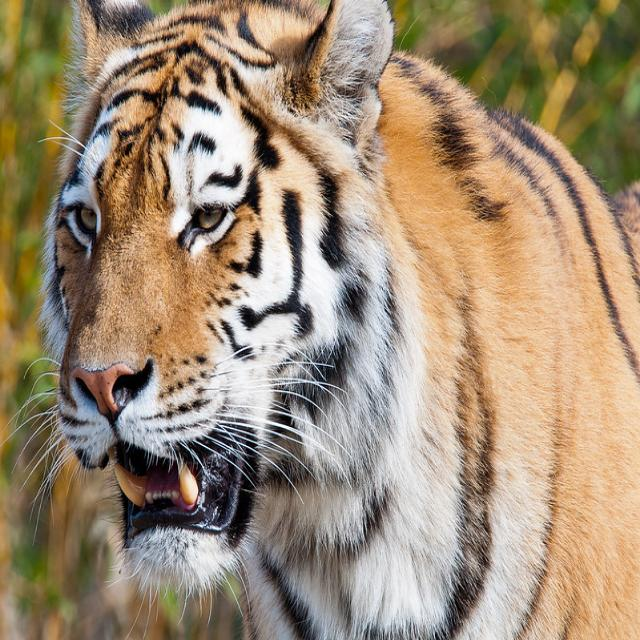Tiger: (29, 0, 634, 635)
